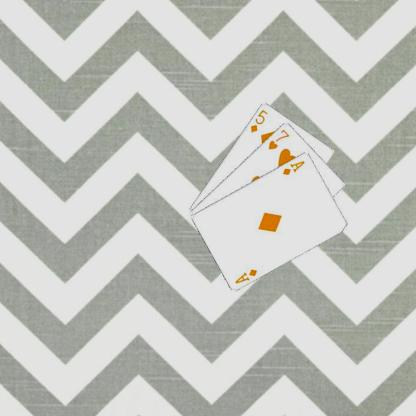5D: (247, 107, 269, 133)
7H: (265, 126, 291, 150)
AD: (232, 266, 258, 285), (280, 158, 306, 176)
